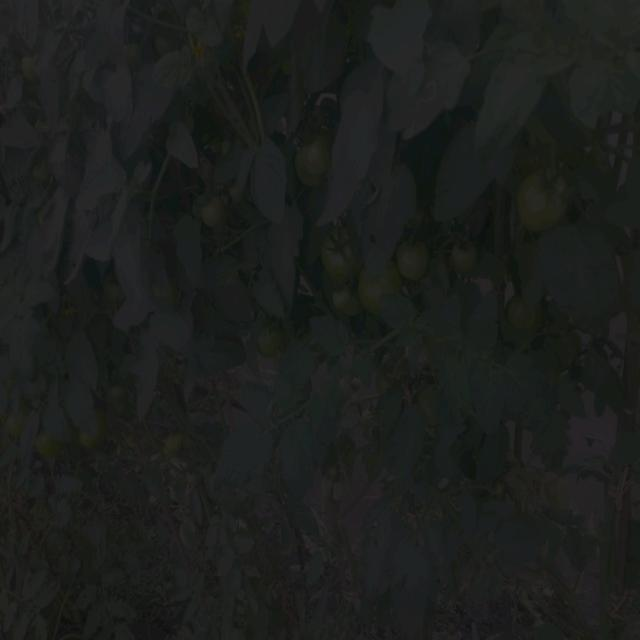tomato: (515, 167, 582, 237), (293, 135, 339, 189), (323, 232, 361, 280), (399, 240, 438, 286), (357, 273, 395, 307), (506, 300, 545, 333), (455, 236, 484, 276), (257, 329, 289, 362), (196, 199, 229, 228), (3, 410, 36, 439), (105, 280, 135, 310), (21, 48, 46, 80), (34, 430, 67, 454), (335, 281, 358, 313), (82, 428, 112, 451), (169, 429, 188, 460), (112, 383, 127, 398)
